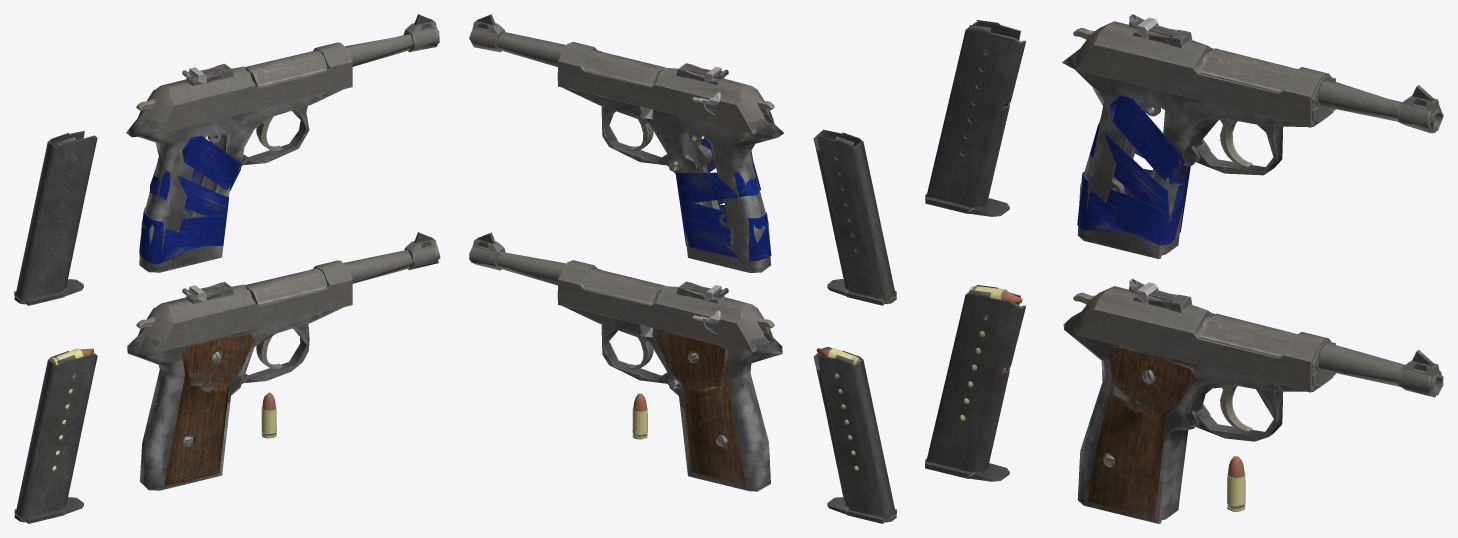
File: service_pistol_tps.glb
3 views of the same model, side by side, from view 1: azimuth 30°, elevation 25°; view 2: azimuth 150°, elevation 25°; view 3: azimuth 330°, elevation 25° (orthographic). The views are drawn at different scales.
Parts seen in each view (by area): view 1: service_pistol_pistol_a, service_pistol_pistol_b, service_pistol_magazine_loaded, service_pistol_magazine_empty, service_pistol_slide_a, service_pistol_slide_b, service_pistol_bullet; view 2: service_pistol_pistol_b, service_pistol_pistol_a, service_pistol_magazine_loaded, service_pistol_magazine_empty, service_pistol_slide_b, service_pistol_slide_a, service_pistol_bullet; view 3: service_pistol_pistol_a, service_pistol_pistol_b, service_pistol_magazine_loaded, service_pistol_magazine_empty, service_pistol_slide_a, service_pistol_slide_b, service_pistol_bullet, service_pistol_trigger_b, service_pistol_trigger_a.
Part boxes in pixels (x1=…): service_pistol_pistol_a: x1=127, y1=232, x2=440, y2=490; service_pistol_pistol_b: x1=126, y1=14, x2=439, y2=272; service_pistol_magazine_loaded: x1=14, y1=348, x2=97, y2=523; service_pistol_magazine_empty: x1=14, y1=131, x2=97, y2=305; service_pistol_slide_a: x1=142, y1=260, x2=352, y2=352; service_pistol_slide_b: x1=142, y1=42, x2=352, y2=134; service_pistol_bullet: x1=261, y1=392, x2=276, y2=438; service_pistol_pistol_b: x1=469, y1=14, x2=783, y2=272; service_pistol_pistol_a: x1=469, y1=232, x2=782, y2=491; service_pistol_magazine_loaded: x1=813, y1=347, x2=896, y2=523; service_pistol_magazine_empty: x1=813, y1=129, x2=896, y2=305; service_pistol_slide_b: x1=558, y1=42, x2=773, y2=133; service_pistol_slide_a: x1=558, y1=260, x2=772, y2=351; service_pistol_bullet: x1=632, y1=393, x2=647, y2=439; service_pistol_pistol_a: x1=1063, y1=311, x2=1443, y2=523; service_pistol_pistol_b: x1=1062, y1=48, x2=1443, y2=258; service_pistol_magazine_loaded: x1=925, y1=285, x2=1025, y2=481; service_pistol_magazine_empty: x1=925, y1=20, x2=1025, y2=216; service_pistol_slide_a: x1=1074, y1=279, x2=1335, y2=392; service_pistol_slide_b: x1=1074, y1=14, x2=1335, y2=127; service_pistol_bullet: x1=1227, y1=456, x2=1245, y2=511; service_pistol_trigger_b: x1=1220, y1=120, x2=1252, y2=167; service_pistol_trigger_a: x1=1220, y1=386, x2=1252, y2=432.
Size of the model in its own units: 0.3016 by 0.2807 by 0.0317.
1 material, 1 textured.
